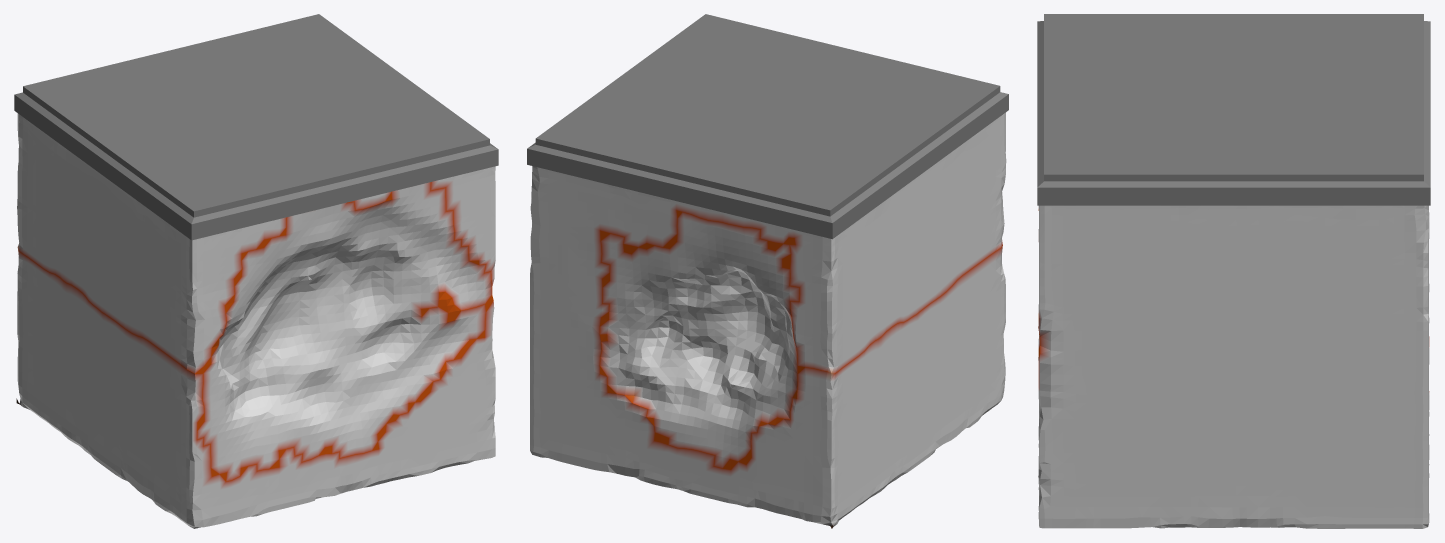
Rendered from c_tile_nbars.fbx.
The picture shows the model from 3 angles, left to right: view 1: azimuth 30°, elevation 25°; view 2: azimuth 150°, elevation 25°; view 3: azimuth 270°, elevation 25°; orthographic projection. The views are drawn at different scales.
Visible parts, largest first — view 1: blockshaved_oPP, tile; view 2: blockshaved_oPP, tile; view 3: blockshaved_oPP, tile.
Part boxes in pixels (x1,y1,x2,y2): blockshaved_oPP: (16,113,495,528); tile: (14,14,498,240); blockshaved_oPP: (530,112,1006,528); tile: (527,14,1008,239); blockshaved_oPP: (1038,205,1429,528); tile: (1037,14,1430,205).
Size of the model in its own units: 2.02 by 2 by 2.02.
